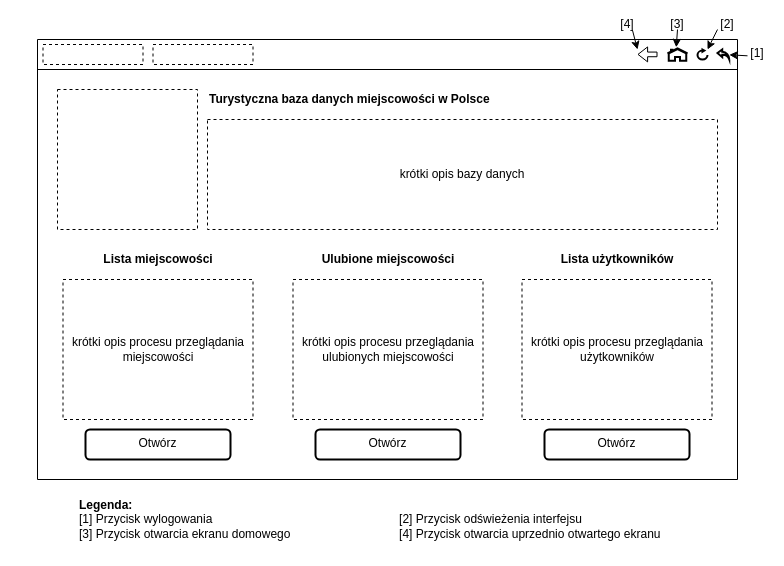
Image size: 784x566. Some labels were removed from this diagram. The shapes that lost their labels are listed below. From the top down, each one's centre as x and y in pixels, then its label:
the point at 92,54: login
the point at 202,54: rola
the point at 127,159: ilustracja
